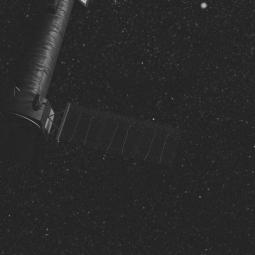xmm_newton: (0, 0, 178, 170)
